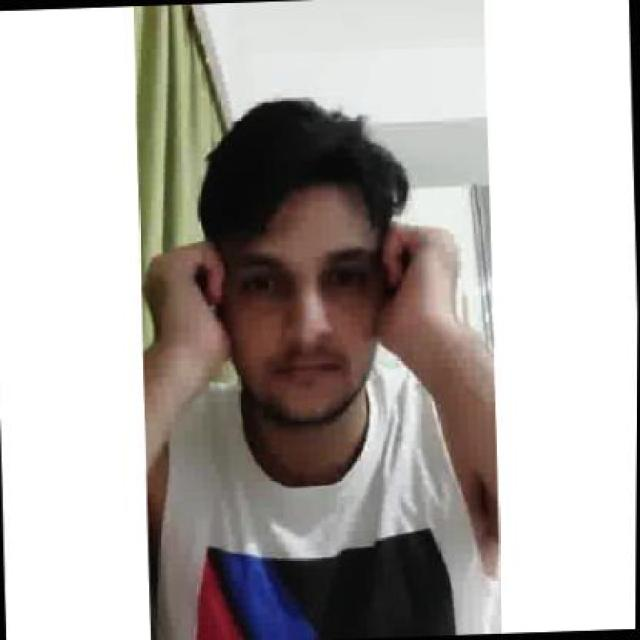attentif: (202, 98, 400, 430)
